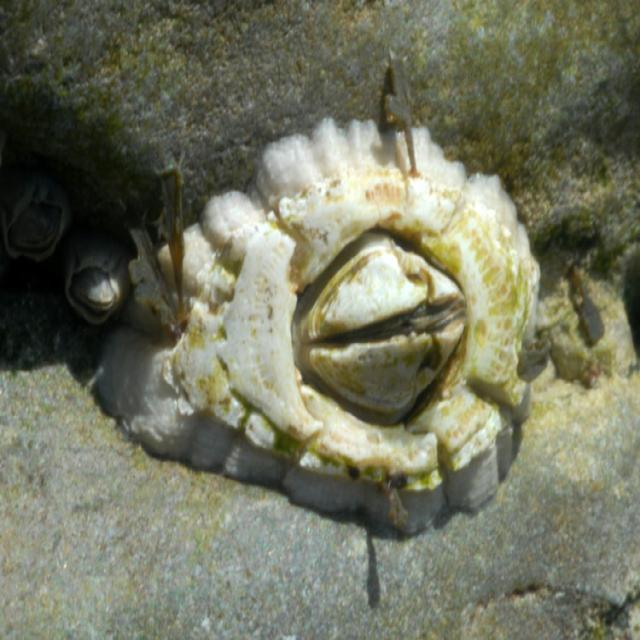barnacles: (163, 80, 546, 551)
